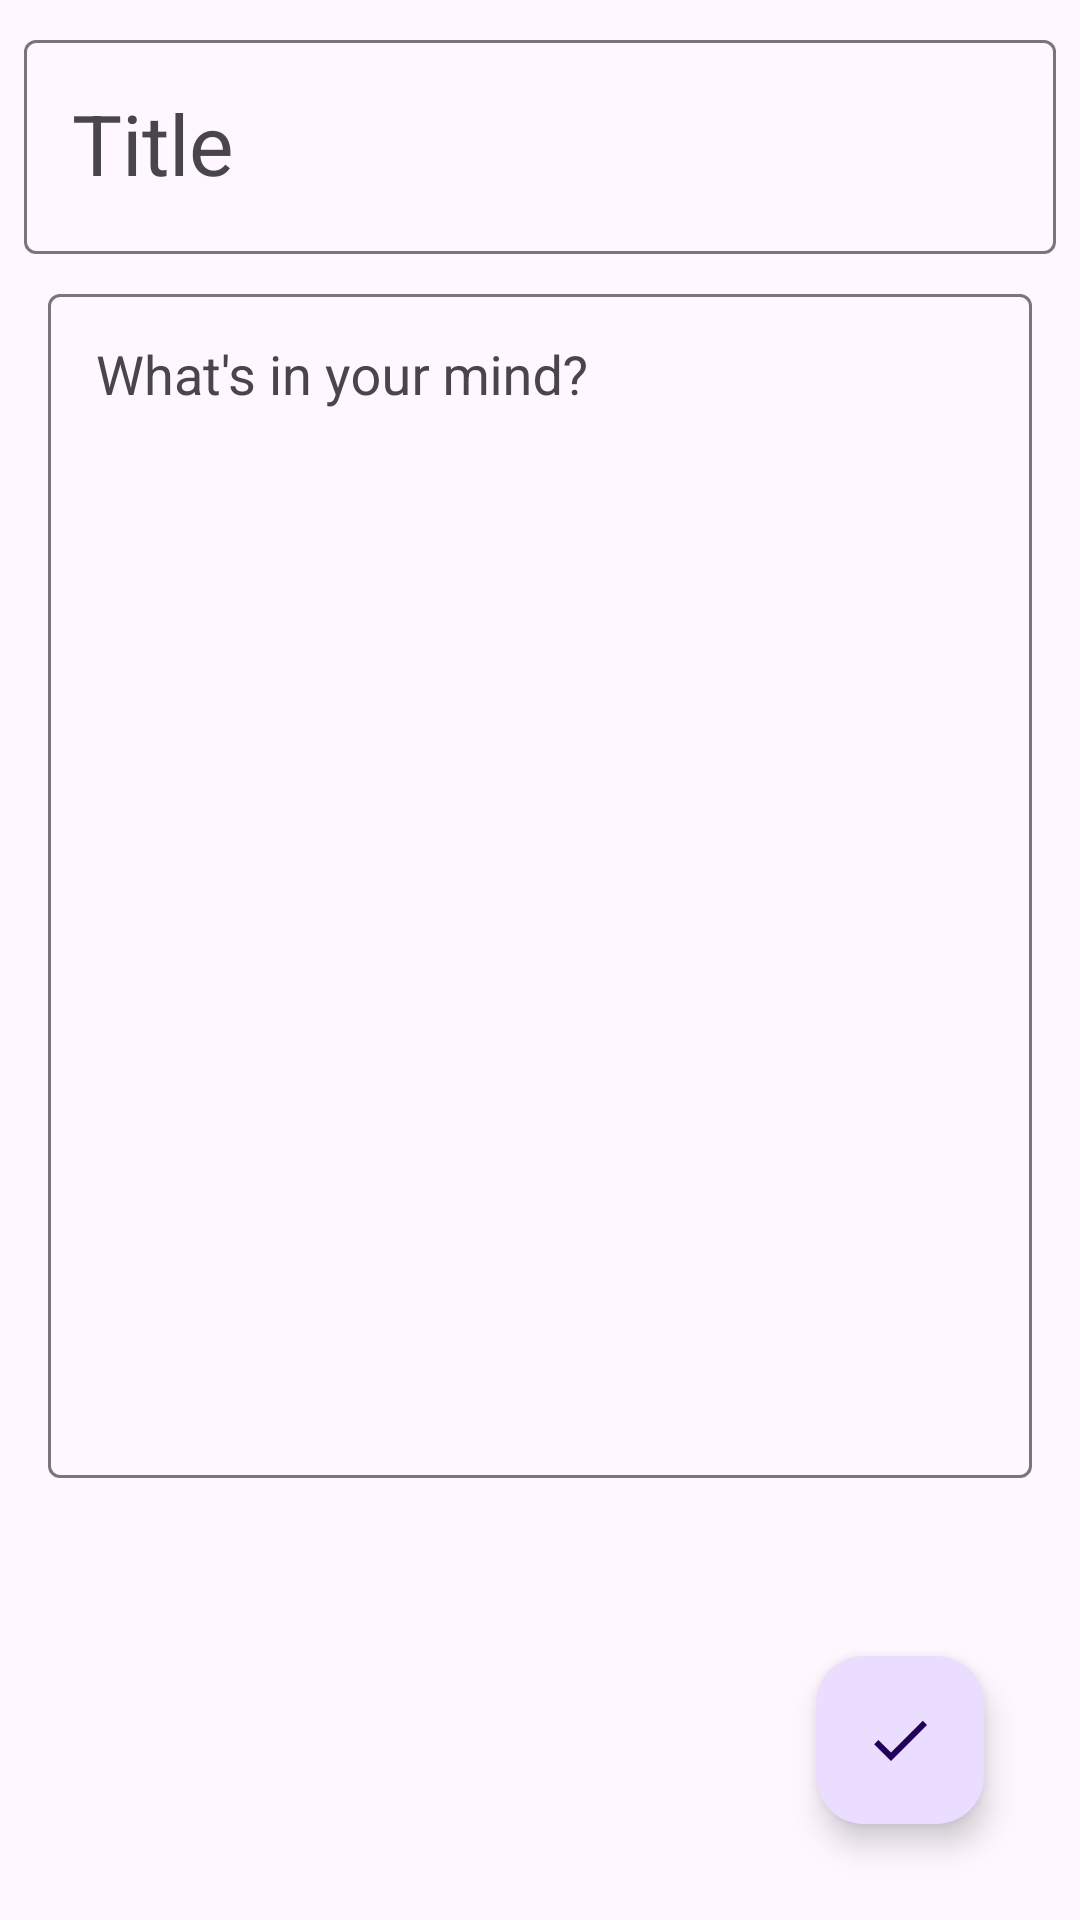

Icon bounding boxes for this 1080*1920 phone screenshot, format BBox(x1, y1, x2, y2):
done: BBox(816, 1656, 984, 1824)
